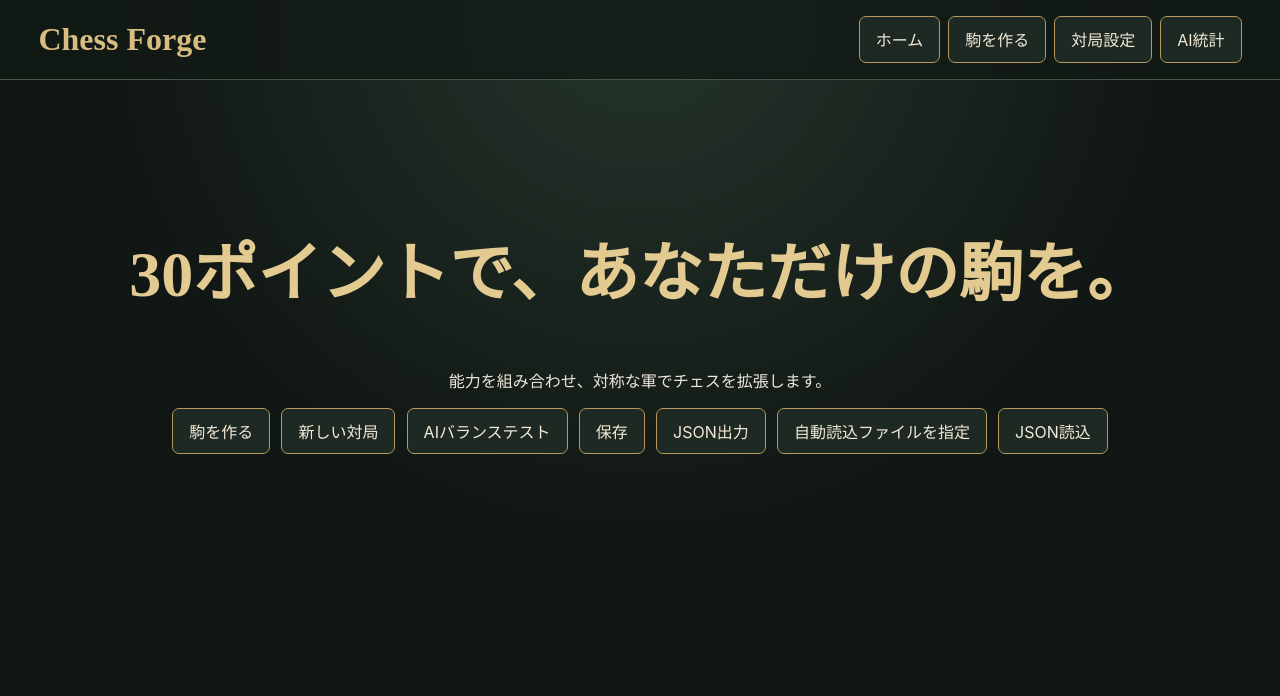
it: App › configures summoned whole-piece abilities with timing-specific pricing
Click the button "駒を作る" in the row of "Chess Forge".
click(997, 39)  # box [948,16,1046,63]
(page scrolled)
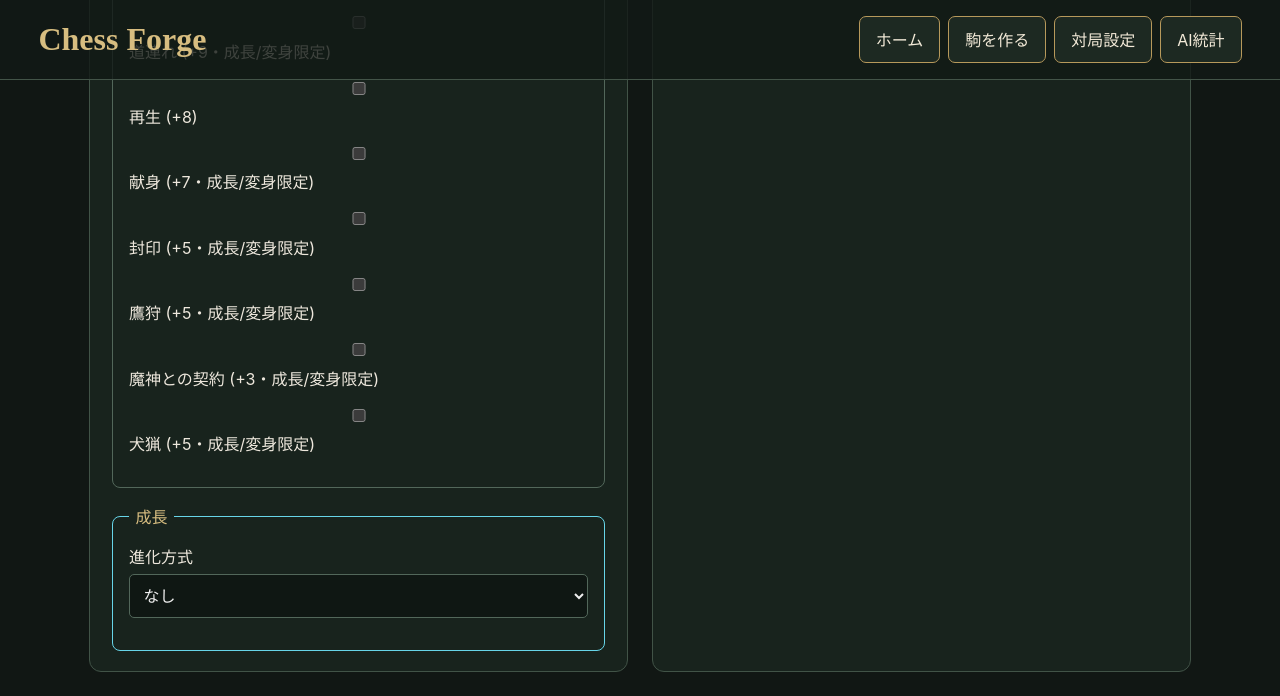
Select "召喚・継承・分裂" in the dropdown labelled "進化方式" at [358, 596], box [129,574,588,618]
(page scrolled)
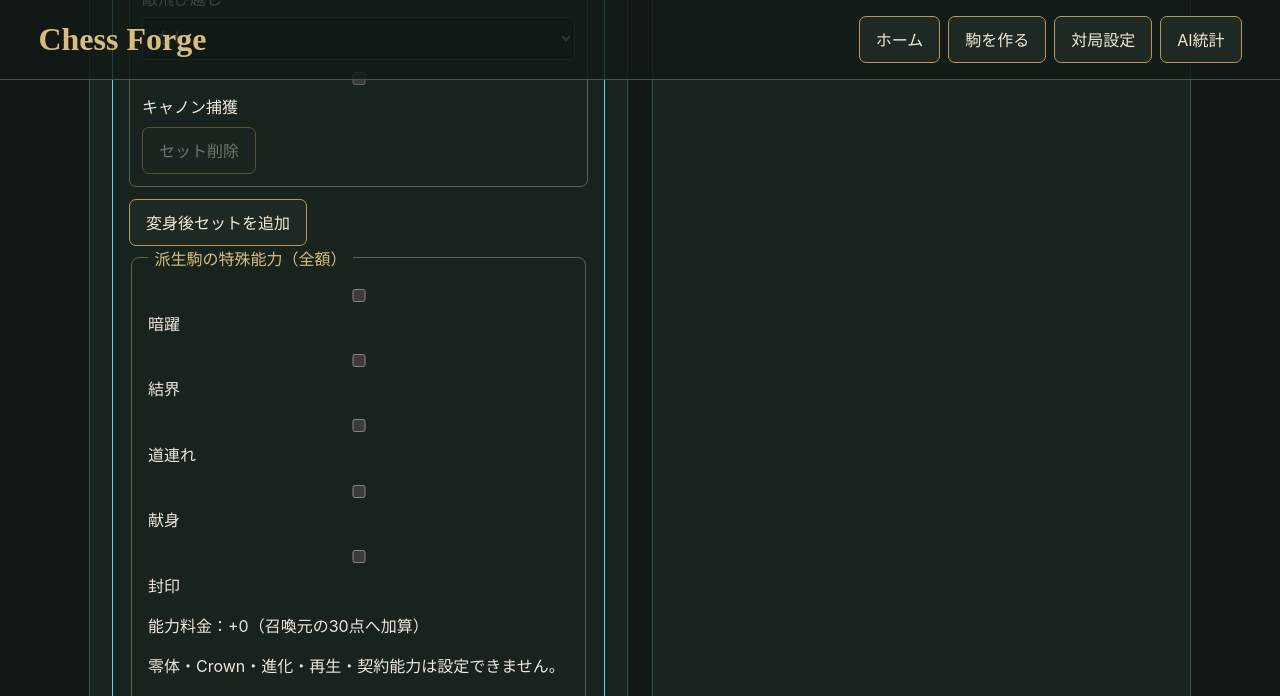
Click the checkbox named "派生駒の結界".
click(359, 360)  # box [152,354,566,367]
(page scrolled)
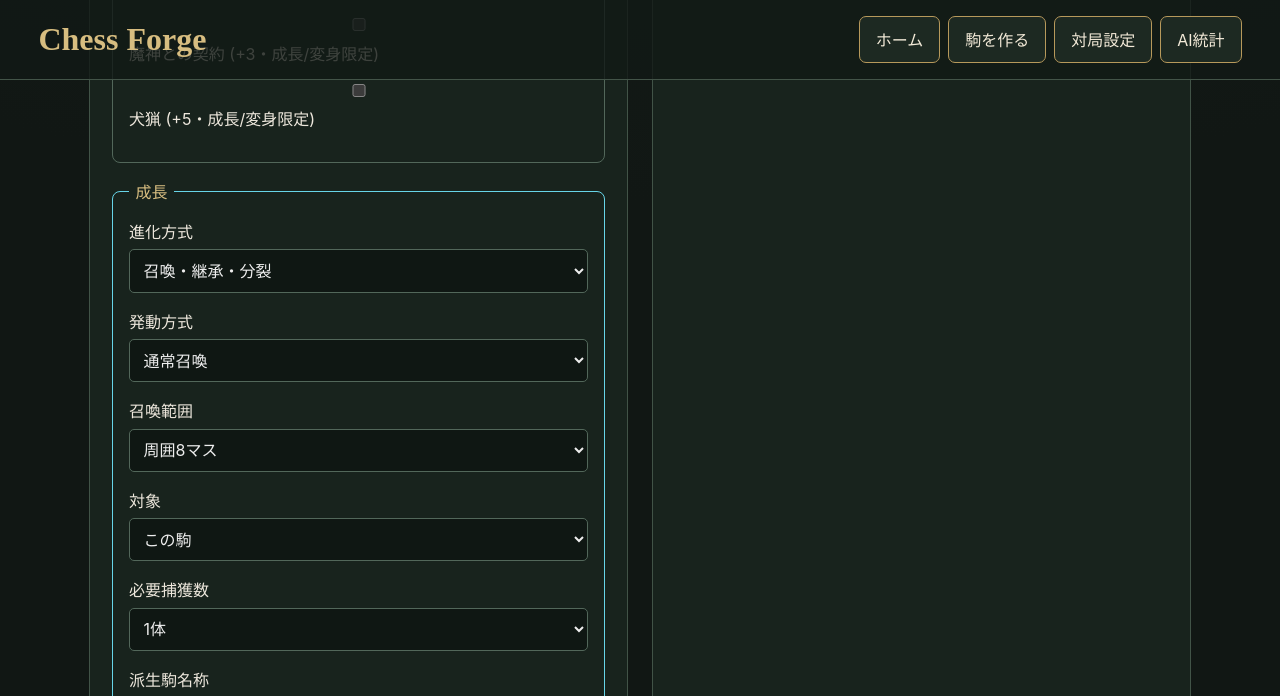
Select "分裂" in the dropdown named "召喚方式" at [358, 361], box [129,339,588,382]
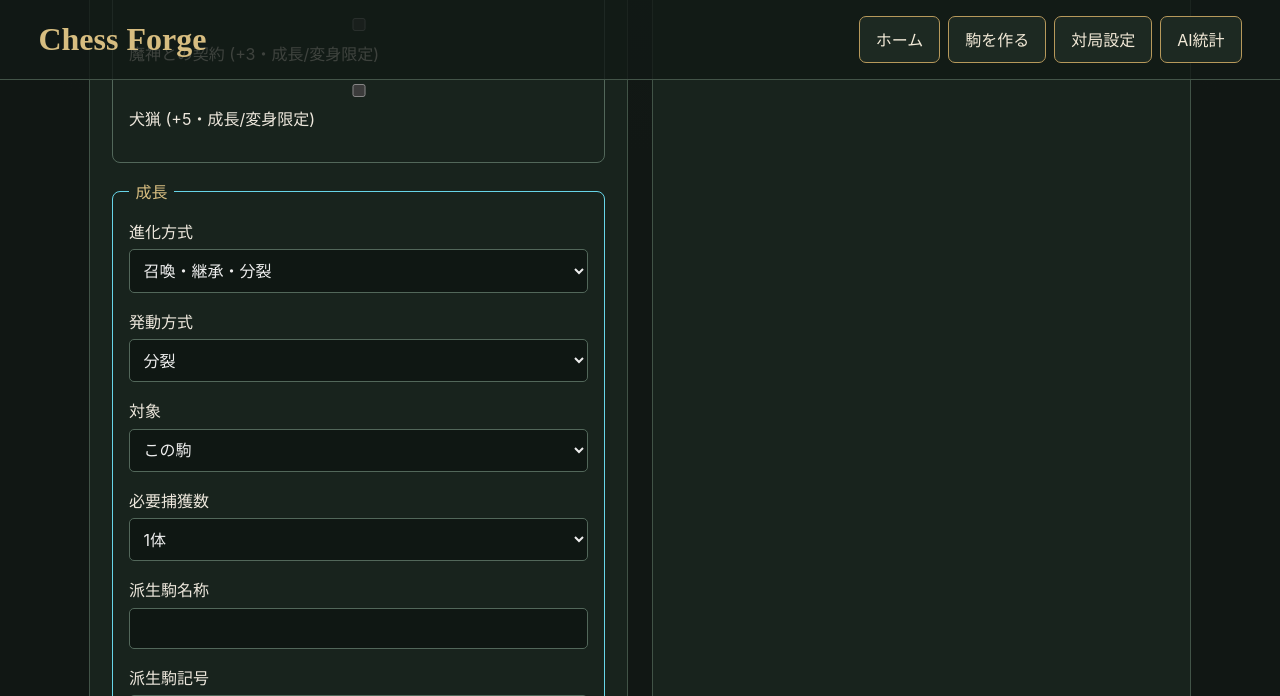
Select "継承" in the dropdown named "召喚方式" at [358, 361], box [129,339,588,382]
(page scrolled)
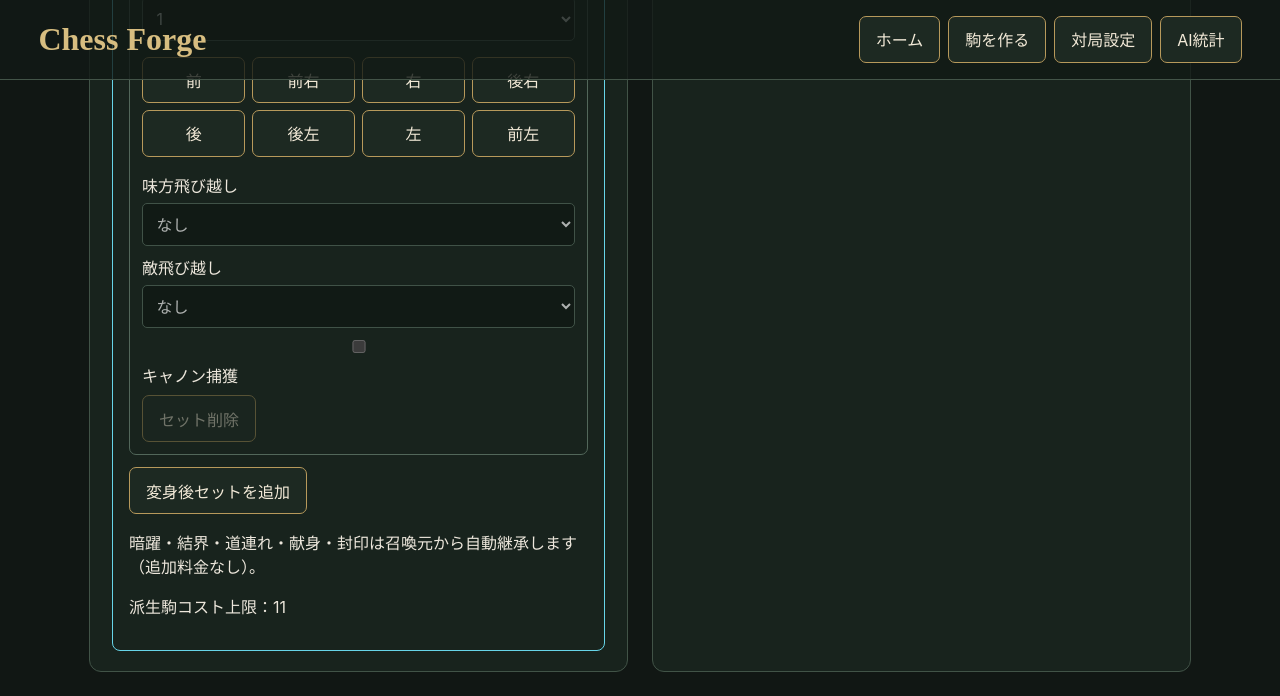
Now the text "暗躍・結界・道連れ・献身・封印は召喚元から自動継承します（追加料金なし）。" is shown, box [129,530,588,578]
